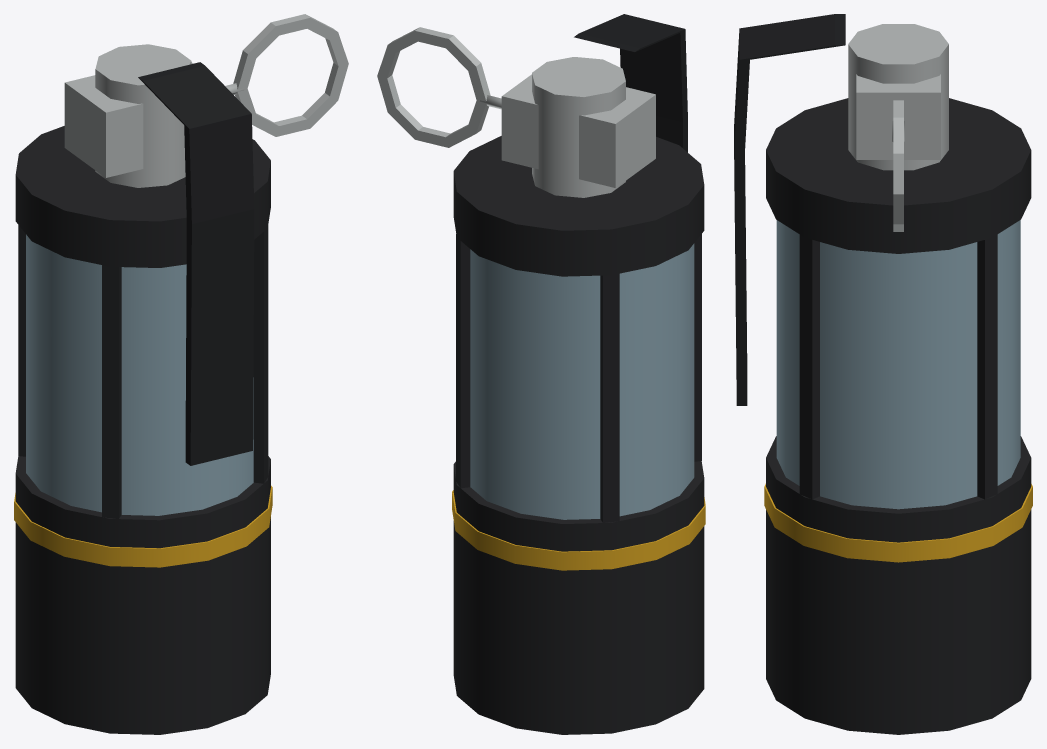
File: sparkle.glb
3 renders of one model, left to right at view 1: azimuth 30°, elevation 25°; view 2: azimuth 150°, elevation 25°; view 3: azimuth 270°, elevation 25°, orthographic. The views are drawn at different scales.
Visible parts, largest first — view 1: sparkle; view 2: sparkle; view 3: sparkle.
Part boxes in pixels (box(x1,y1,x2,y2)): sparkle: box(14, 14, 348, 734); sparkle: box(377, 14, 705, 734); sparkle: box(734, 14, 1032, 734).
Bounding box in the file's own units: 0.0708 × 0.135 × 0.0563.
Materials: 1 (1 with a texture image).
